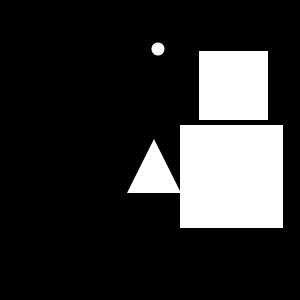circle: (180, 125, 283, 228), (199, 51, 268, 120)
rectangle: (151, 42, 164, 56)
triangle: (127, 139, 181, 193), (232, 198, 261, 227)
